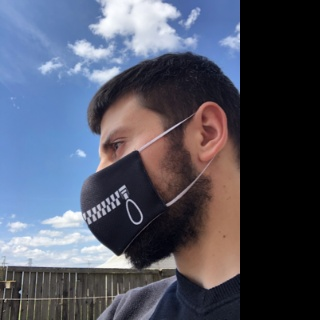with_mask: (80, 120, 182, 261)
